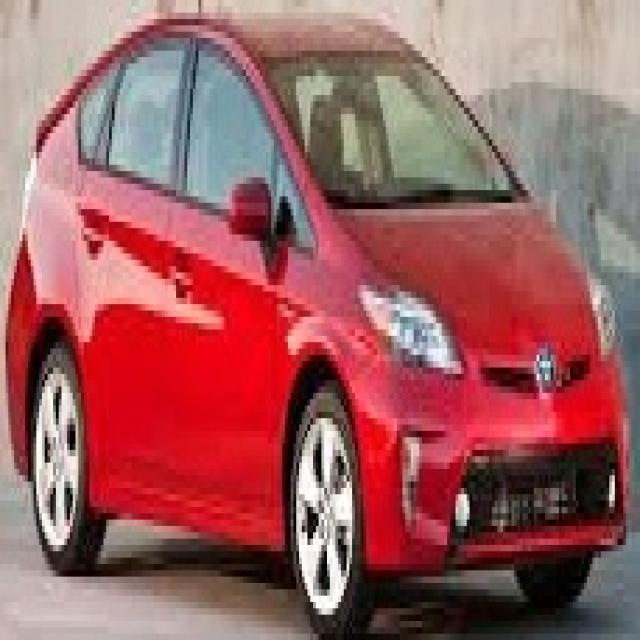red: (12, 14, 630, 595)
